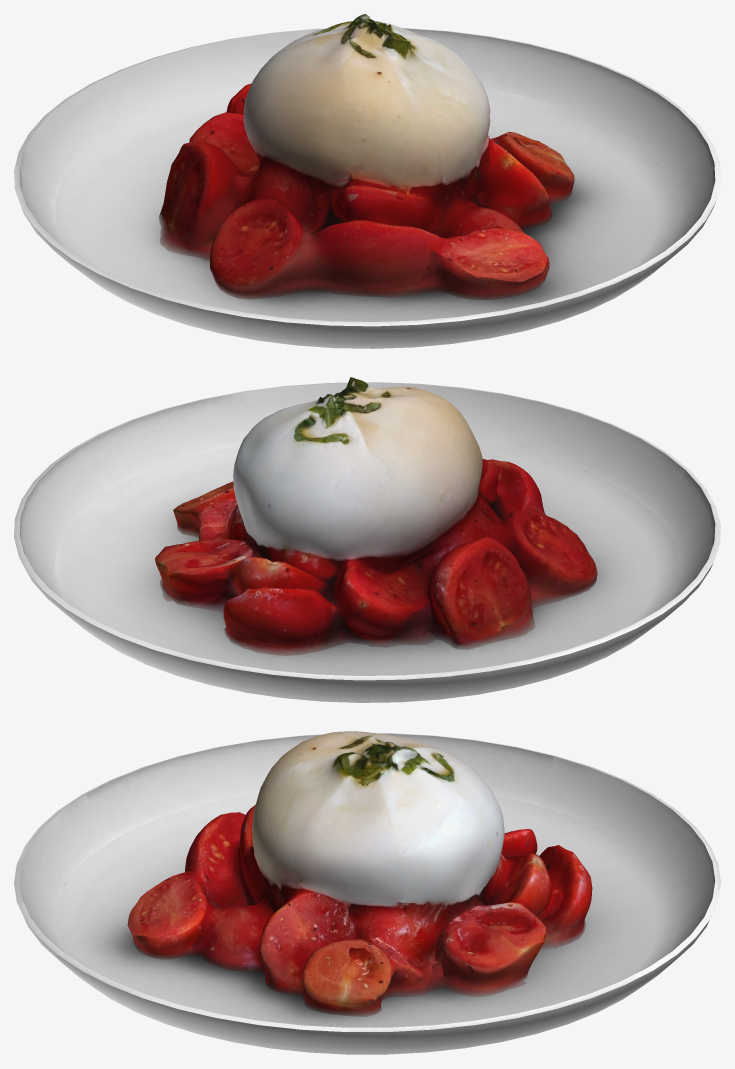
The model's file is Plato_01.glb.
3 renders of one model, top to bottom at view 1: azimuth 30°, elevation 25°; view 2: azimuth 150°, elevation 25°; view 3: azimuth 270°, elevation 25°, orthographic.
Parts seen in each view (by area): view 1: Greek Flat Plate White, Burrata Retopo Split; view 2: Greek Flat Plate White, Burrata Retopo Split; view 3: Greek Flat Plate White, Burrata Retopo Split.
Boxes of the visible parts, x1=… form: Greek Flat Plate White: x1=14, y1=28, x2=720, y2=348; Burrata Retopo Split: x1=159, y1=14, x2=574, y2=299; Greek Flat Plate White: x1=14, y1=382, x2=720, y2=702; Burrata Retopo Split: x1=155, y1=377, x2=597, y2=655; Greek Flat Plate White: x1=14, y1=733, x2=720, y2=1054; Burrata Retopo Split: x1=127, y1=731, x2=592, y2=1016.
Size of the model in its own units: 0.26 by 0.0786 by 0.26.
3 materials, 3 textured.
